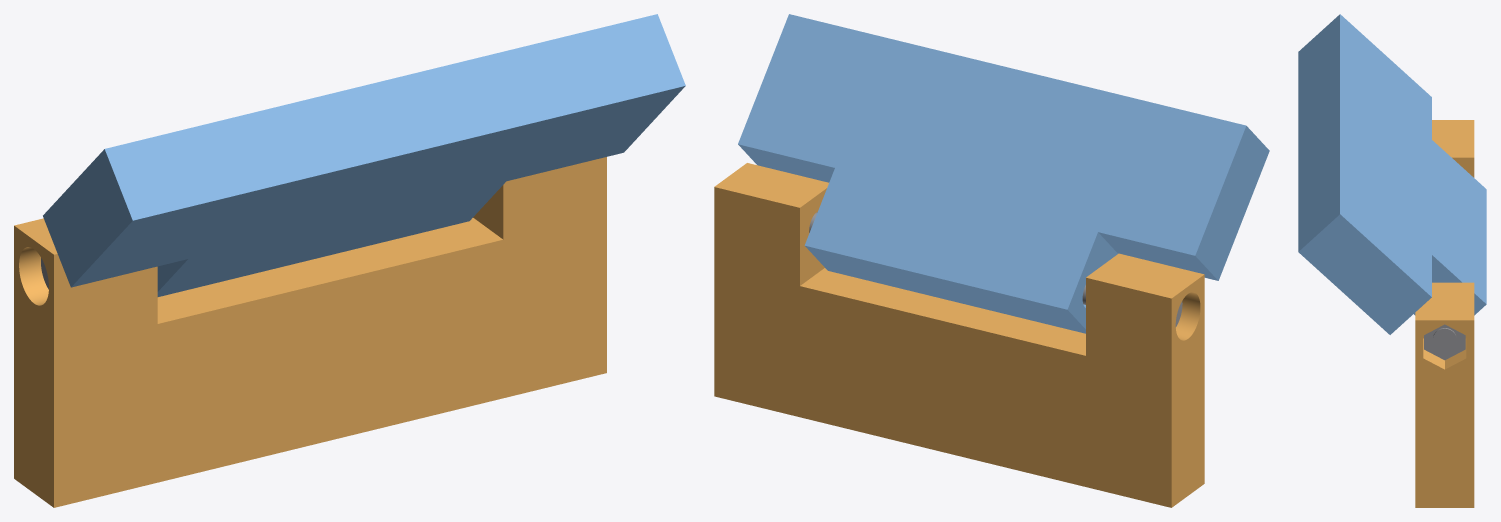
Rendered from hinged_plates.glb.
3 views of the same model, side by side, from view 1: azimuth 30°, elevation 25°; view 2: azimuth 150°, elevation 25°; view 3: azimuth 270°, elevation 25° (orthographic). The views are drawn at different scales.
Visible parts, largest first — view 1: plate_a_part, plate_b_part; view 2: plate_b_part, plate_a_part; view 3: plate_b_part, plate_a_part, m4_pin_part.
Boxes of the visible parts, bbox=[...] form: plate_a_part: bbox=[14, 157, 606, 507]; plate_b_part: bbox=[43, 14, 685, 296]; plate_b_part: bbox=[738, 14, 1269, 333]; plate_a_part: bbox=[714, 163, 1204, 507]; plate_b_part: bbox=[1298, 14, 1486, 334]; plate_a_part: bbox=[1415, 120, 1474, 507]; m4_pin_part: bbox=[1424, 324, 1465, 360].
Size of the model in its own units: 80 by 54.75 by 31.82.
